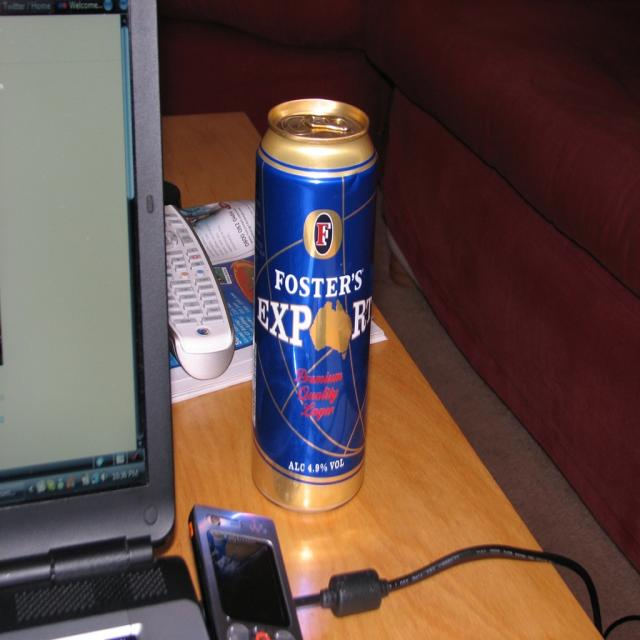fosters: (302, 207, 345, 263)
